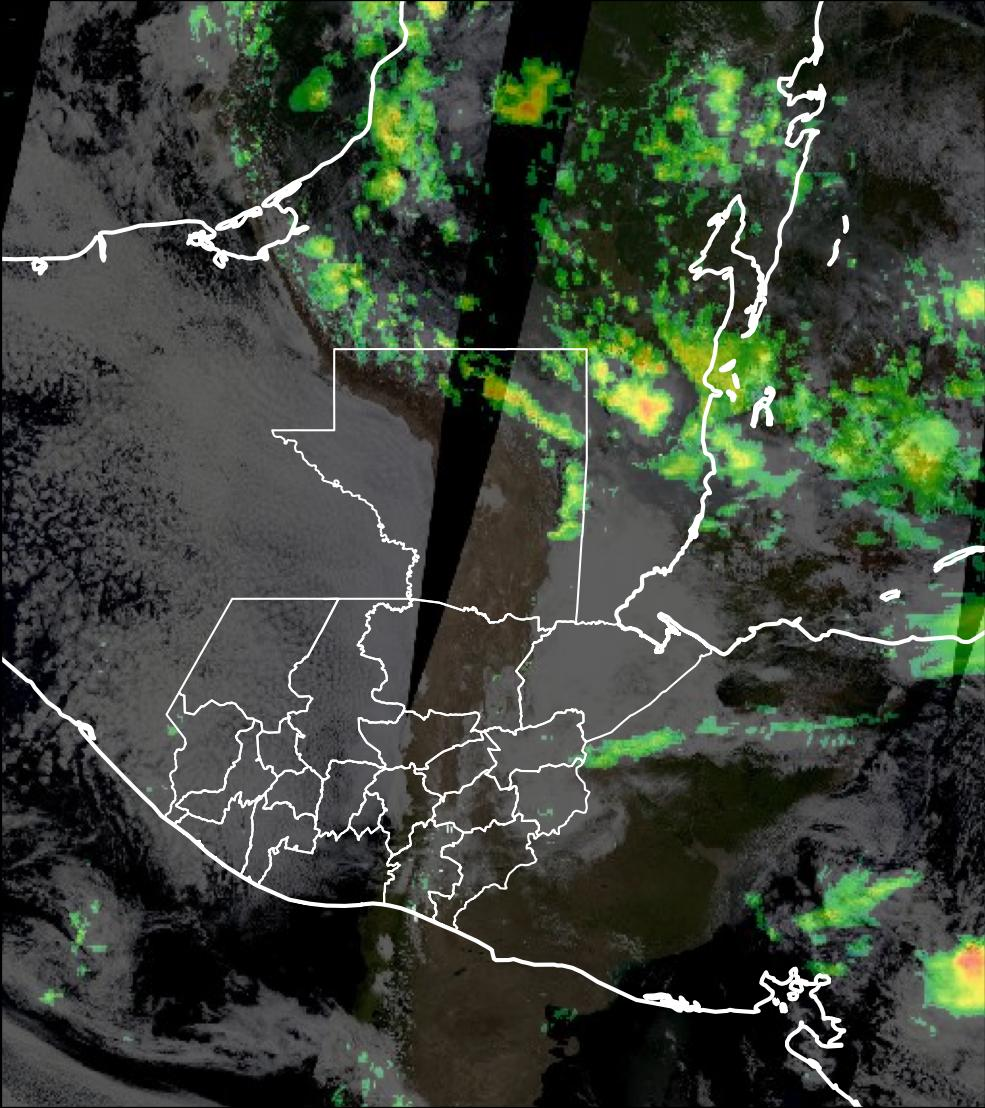precipitacion: (935, 932, 985, 1002)
